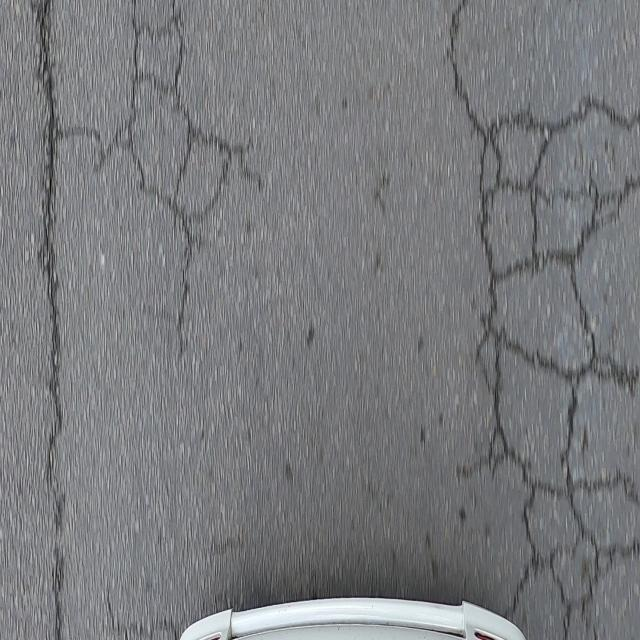Retak-Buaya: (469, 94, 640, 640), (95, 0, 235, 229)
Retak-Memanjang: (39, 0, 63, 479)
